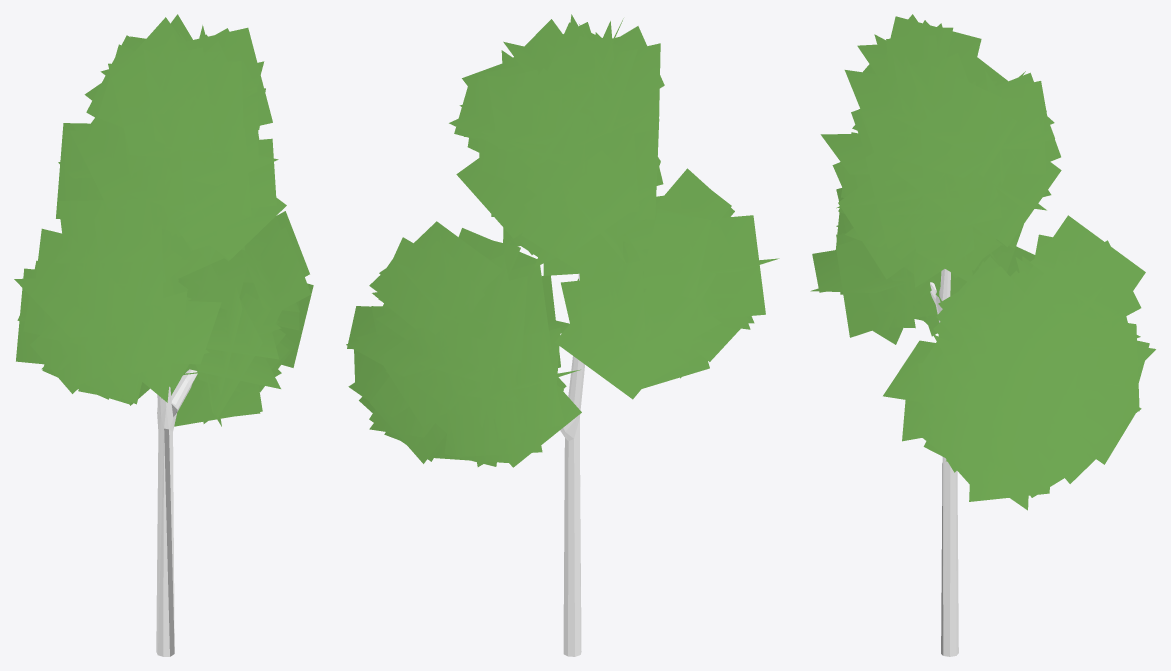
The model's file is birch-3.glb.
3 views of the same model, side by side, from view 1: azimuth 30°, elevation 25°; view 2: azimuth 150°, elevation 25°; view 3: azimuth 270°, elevation 25° (orthographic).
Visible parts, largest first — view 1: Node; view 2: Node; view 3: Node.
Part boxes in pixels (x1,y1,x2,y2): Node: [14, 14, 313, 656]; Node: [346, 14, 779, 656]; Node: [810, 14, 1155, 656].
Bounding box in the file's own units: 4.38 × 7.59 × 3.81.
